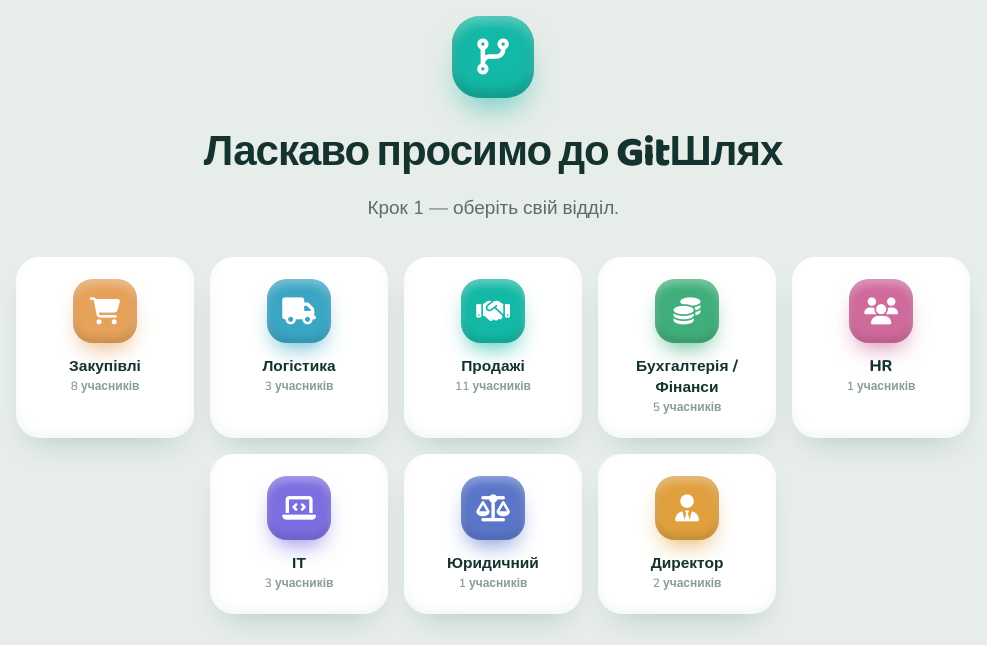
Scenario: Екран входу — крок 1 (відділ) → крок 2 (ПІБ) › крок 2 показує ПІБ учасників обраного відділу
Click the text "Логістика" at {"x": 299, "y": 366}, box left=262, top=355, right=336, bottom=376
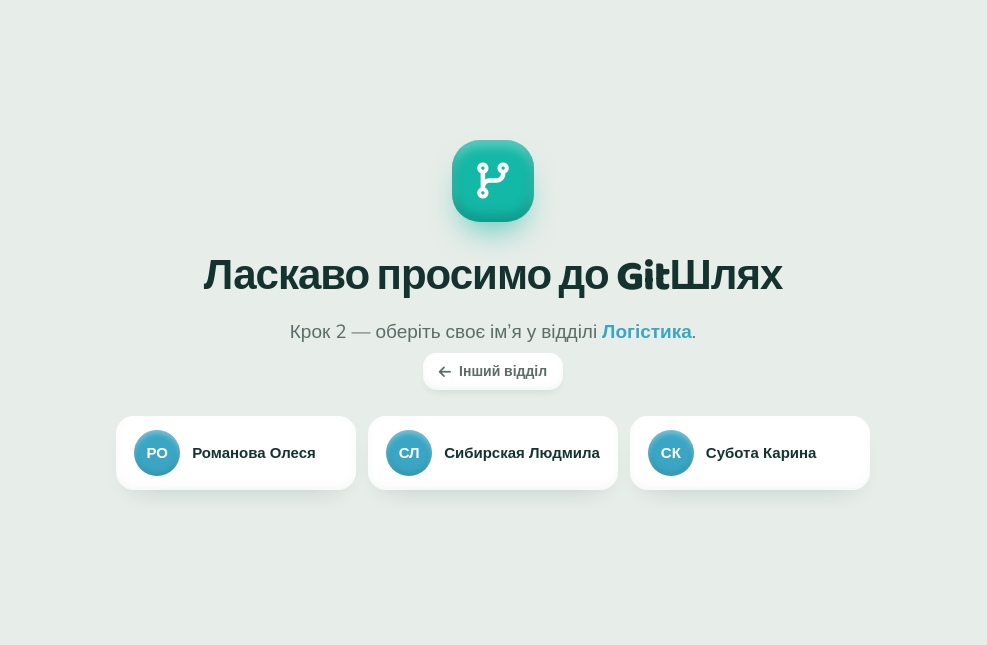
Expected: the text "Романова Олеся" is shown, left=192, top=444, right=316, bottom=462
Expected: the text "Субота Карина" is shown, left=706, top=444, right=816, bottom=462
# повернення до вибору відділу
Click the button "Інший відділ" at {"x": 493, "y": 372}, box left=423, top=353, right=563, bottom=390
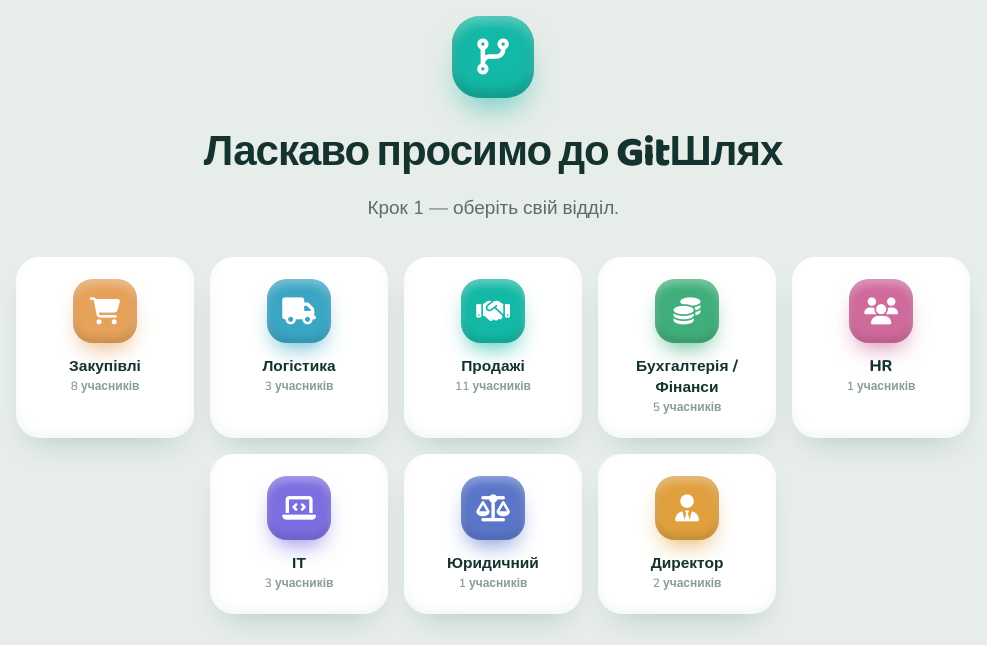
Expected: the text "Закупівлі" is shown, left=69, top=355, right=141, bottom=376
